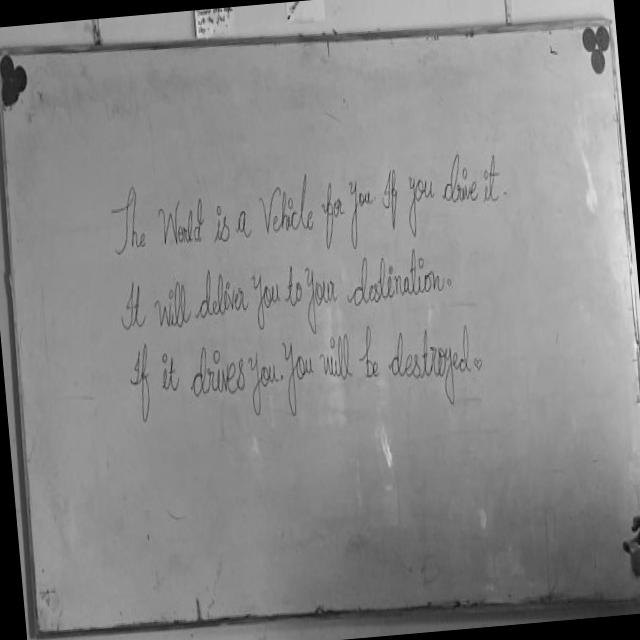White-board: (0, 21, 640, 630)
